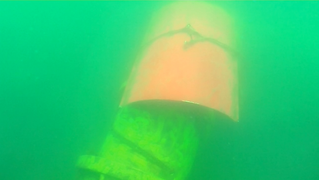leak: (117, 1, 239, 123)
pipe: (73, 101, 218, 179)
